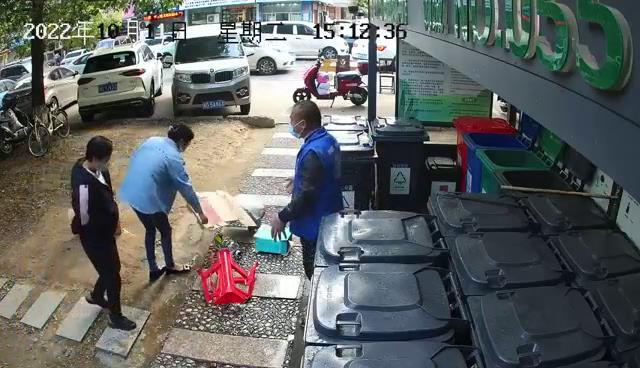person: (68, 135, 137, 332)
suliaozhipin: (192, 248, 259, 303)
worker: (117, 123, 209, 283), (268, 98, 344, 283)
zhizhipin: (195, 188, 257, 230), (254, 222, 293, 255)
